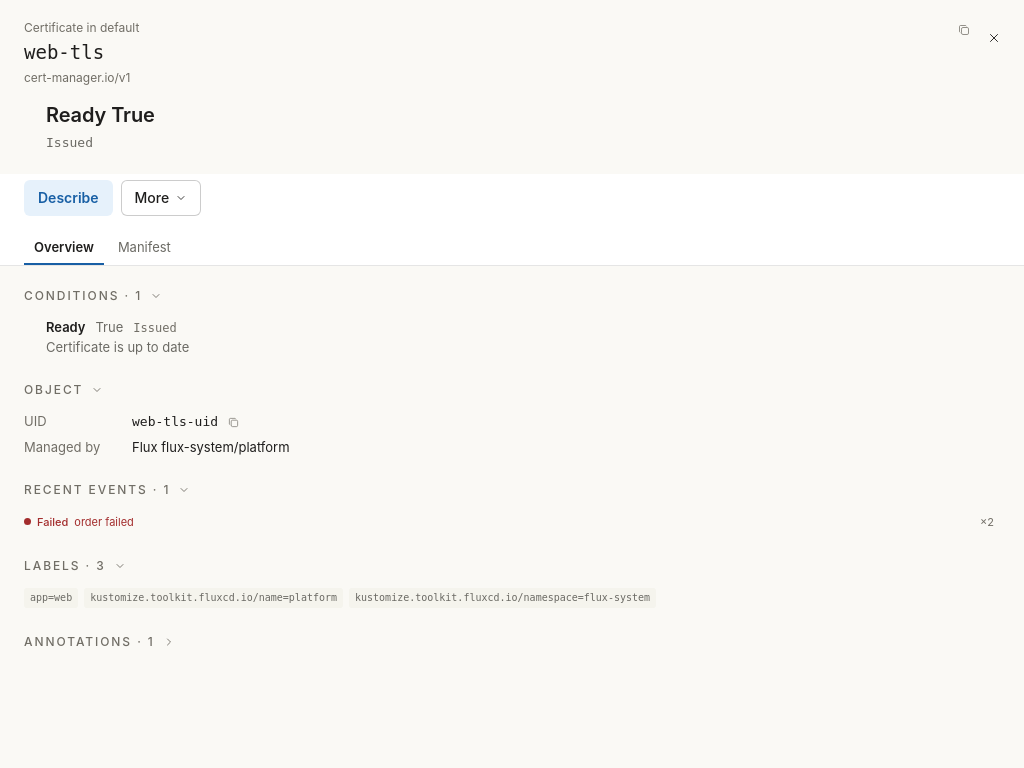
Test: InstanceDetail › shows Flux ownership warning in the YAML editor
Step 1. Click the tab "Manifest" → click(144, 247), box [108,229,181,265]
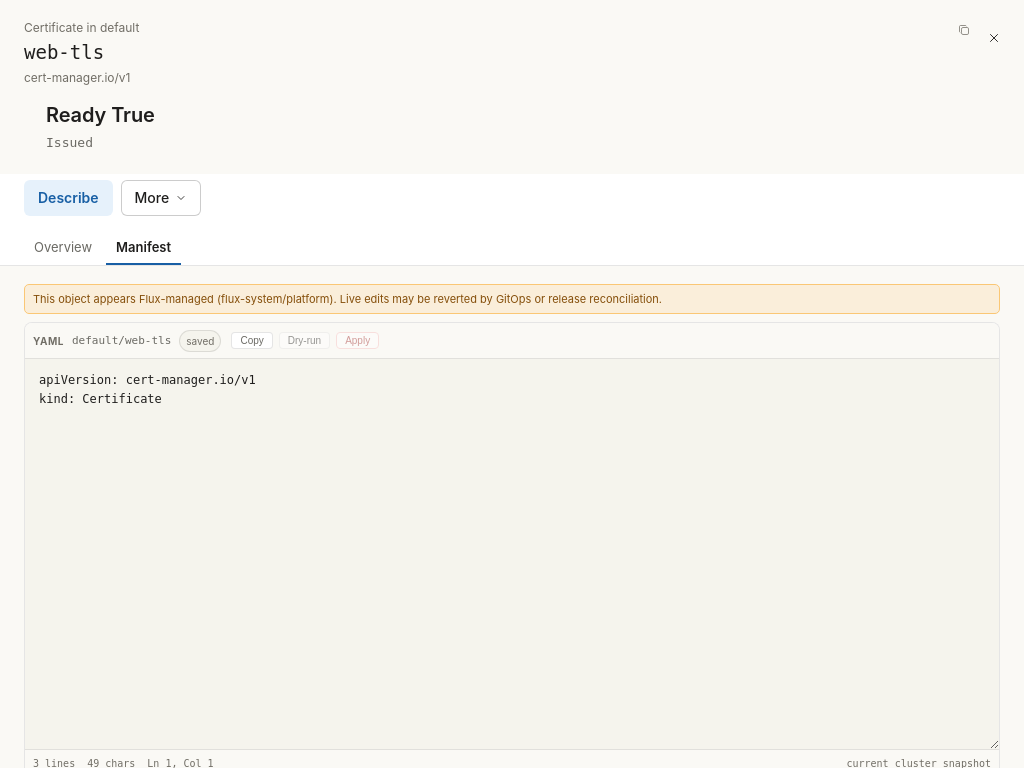
Check: the text "Flux-managed (flux-system/platform)" is shown, box [24,284,1000,314]
